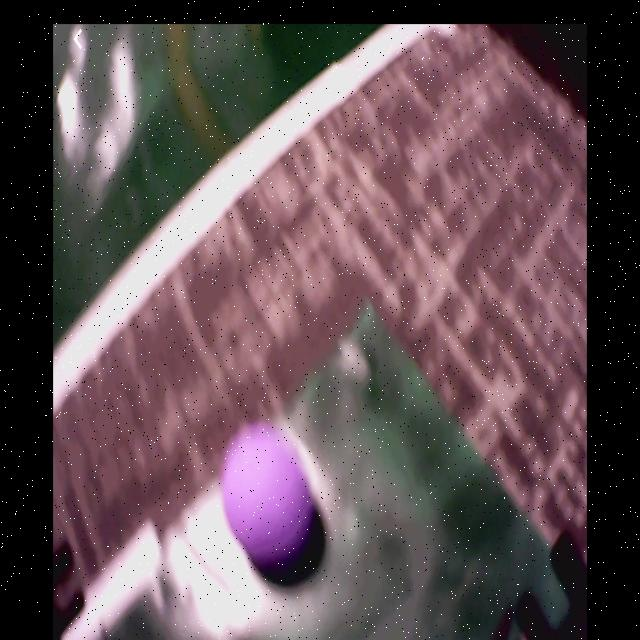ball: (224, 428, 313, 557)
